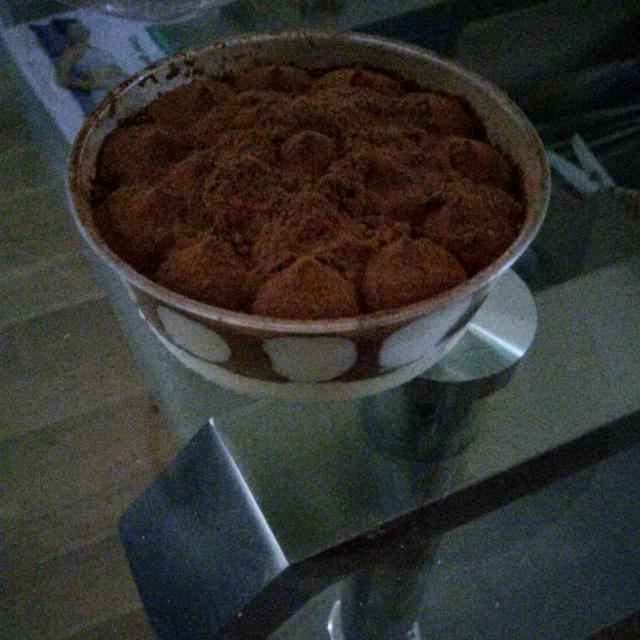tiramisu: (99, 63, 520, 310)
